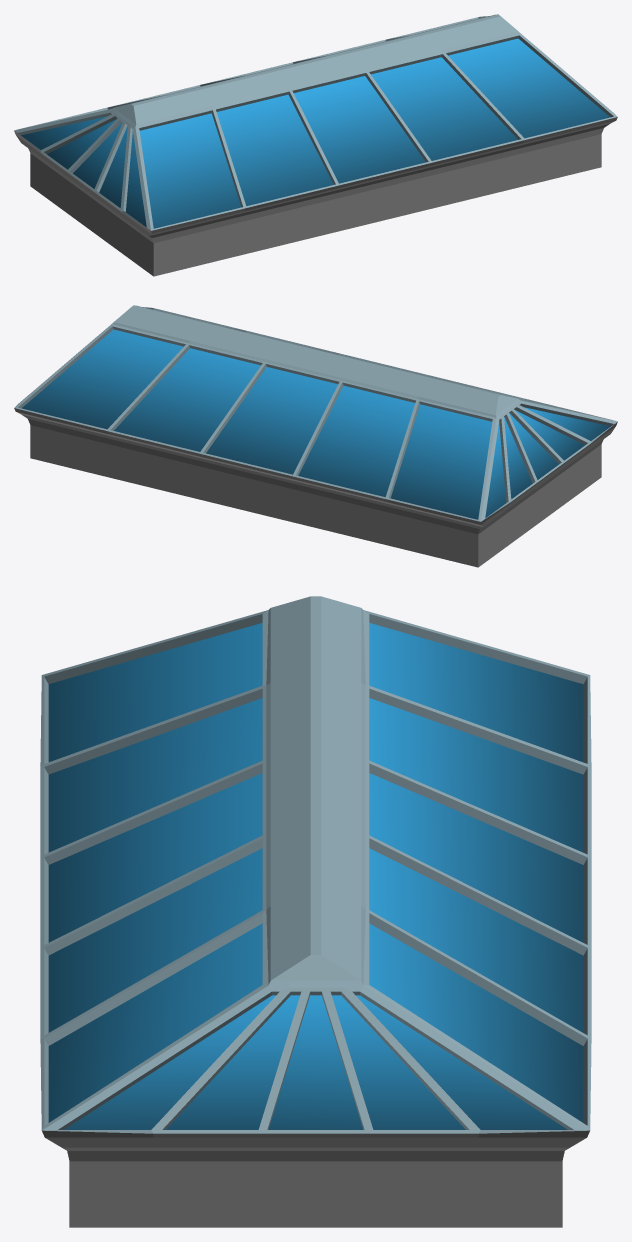
Rendered from RoofAcc_SkylightLarge.fbx.
3 views of the same model, one above another, from view 1: azimuth 30°, elevation 25°; view 2: azimuth 150°, elevation 25°; view 3: azimuth 270°, elevation 25° (orthographic). The views are drawn at different scales.
Parts seen in each view (by area): view 1: RoofAcc_SkylightLarge; view 2: RoofAcc_SkylightLarge; view 3: RoofAcc_SkylightLarge.
Boxes of the visible parts, box(x1,y1,x2,y2) form: RoofAcc_SkylightLarge: box(14, 14, 617, 276); RoofAcc_SkylightLarge: box(14, 305, 617, 567); RoofAcc_SkylightLarge: box(40, 596, 591, 1227).
Bounding box in the file's own units: 178 × 42.29 × 90.53.
